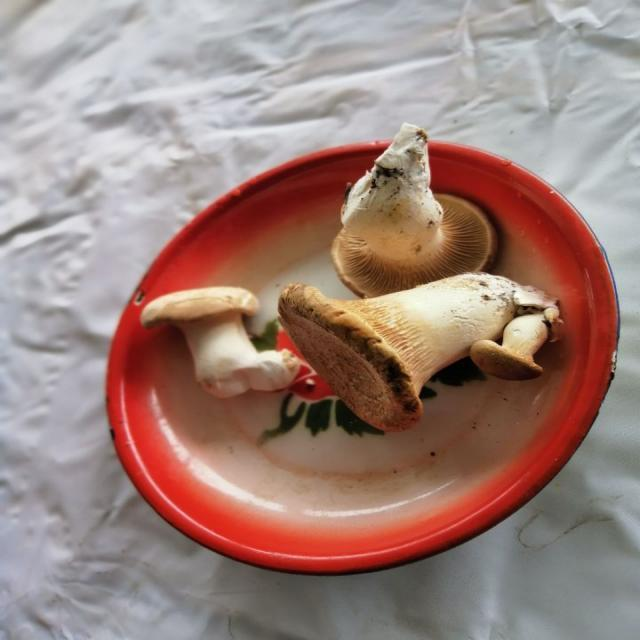Pleurotus cystidiosus: (283, 273, 561, 437), (331, 123, 494, 300), (146, 287, 288, 398)
